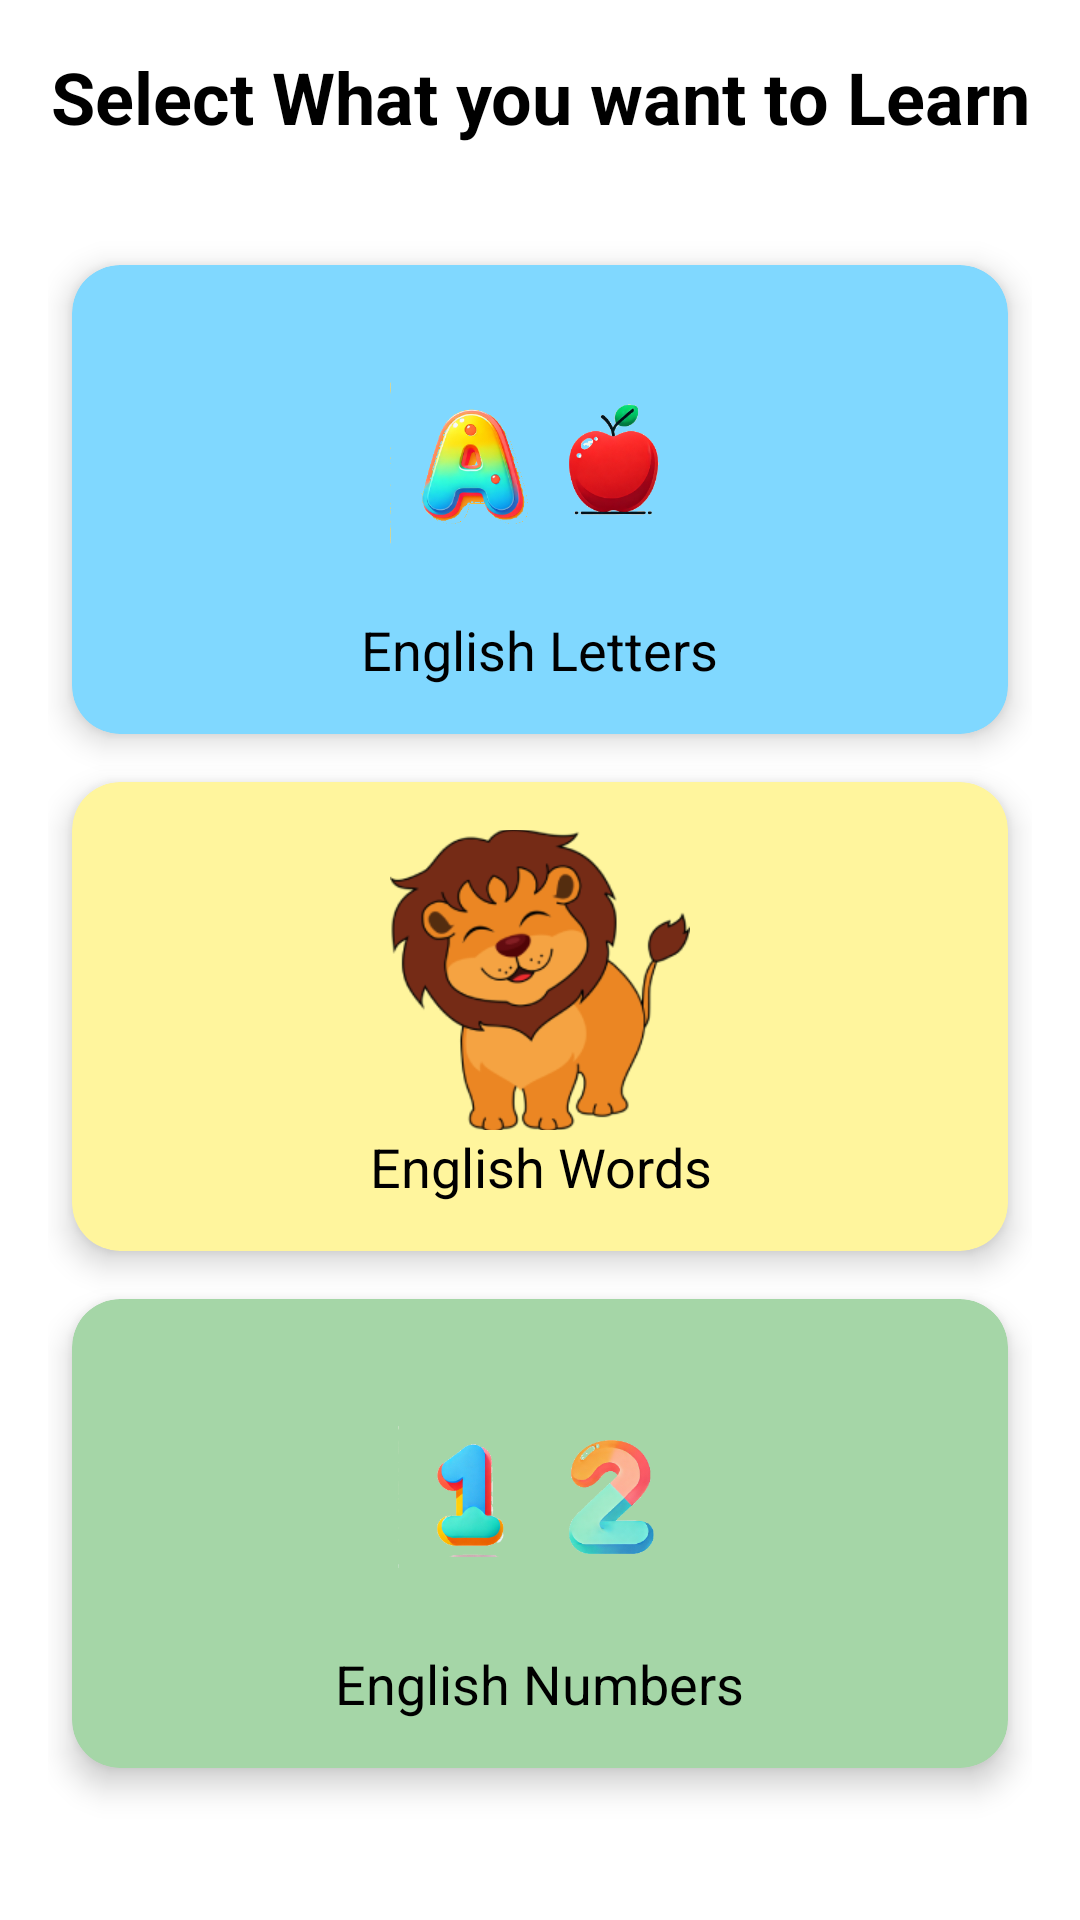

Icons on this 1080x1920 Android screen, each with the point to tap as point (x, y):
lion picture: point (540, 980)
